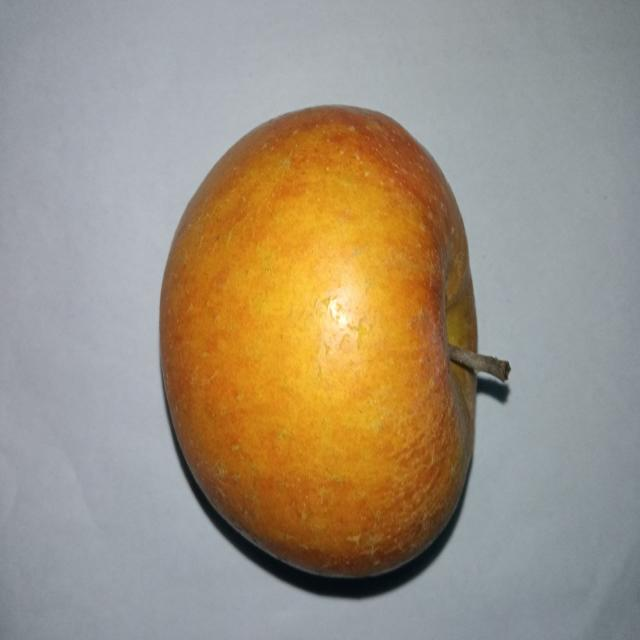fresh_apple: (155, 103, 501, 578)
